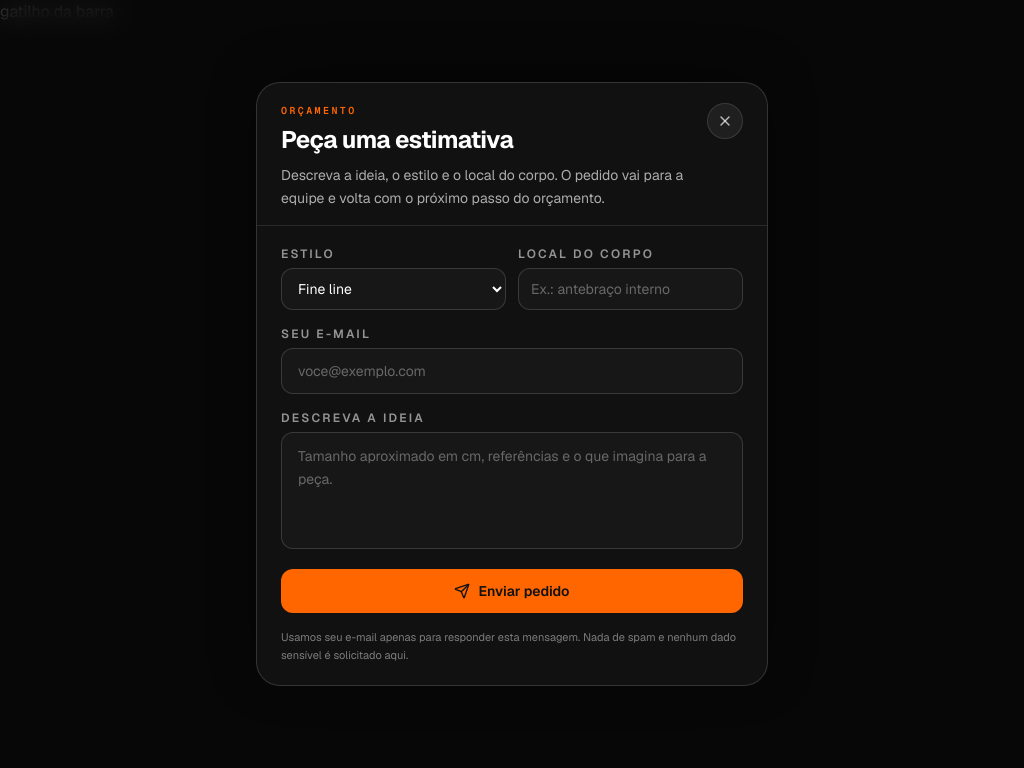
Test: TopBarActionSheet › pedido de orçamento usa o formulário de budget
(page scrolled)
In the field labelled "Seu e-mail": (512, 371) [281,348,743,394], type "cliente@mk.com"
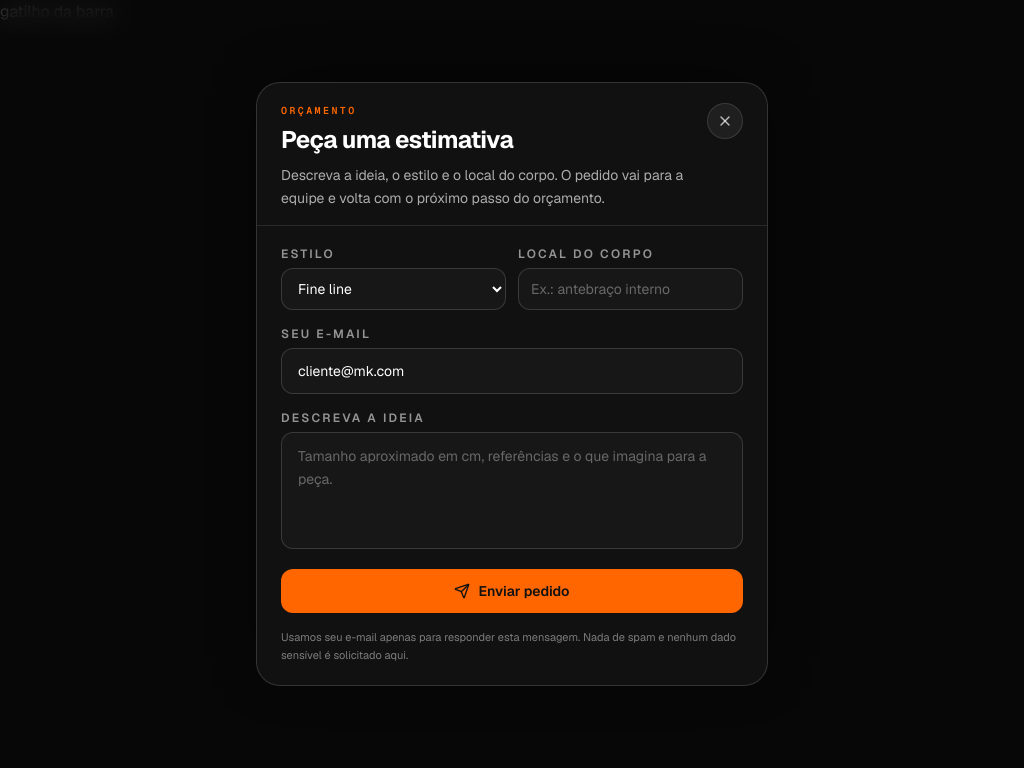
Replace the text in the text box labelled "Descreva a ideia" with "Peça de 15 cm no antebraço, traço fino.": (512, 491) [281,432,743,549]
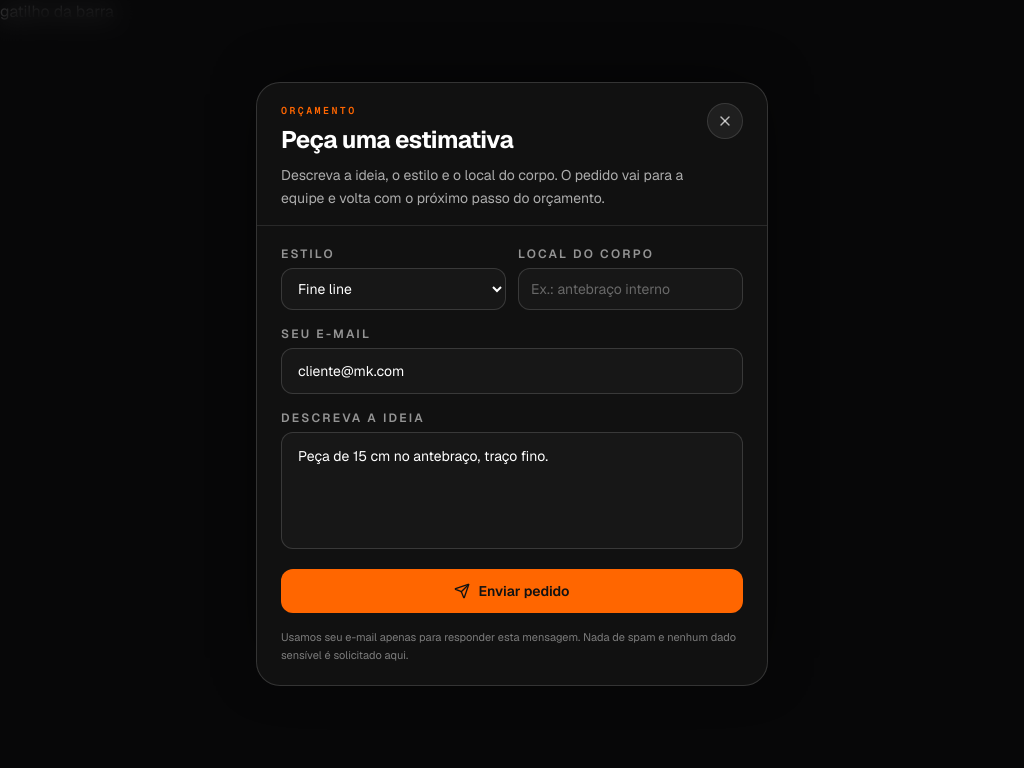
Click the button "Enviar pedido": (512, 591) [281,569,743,613]
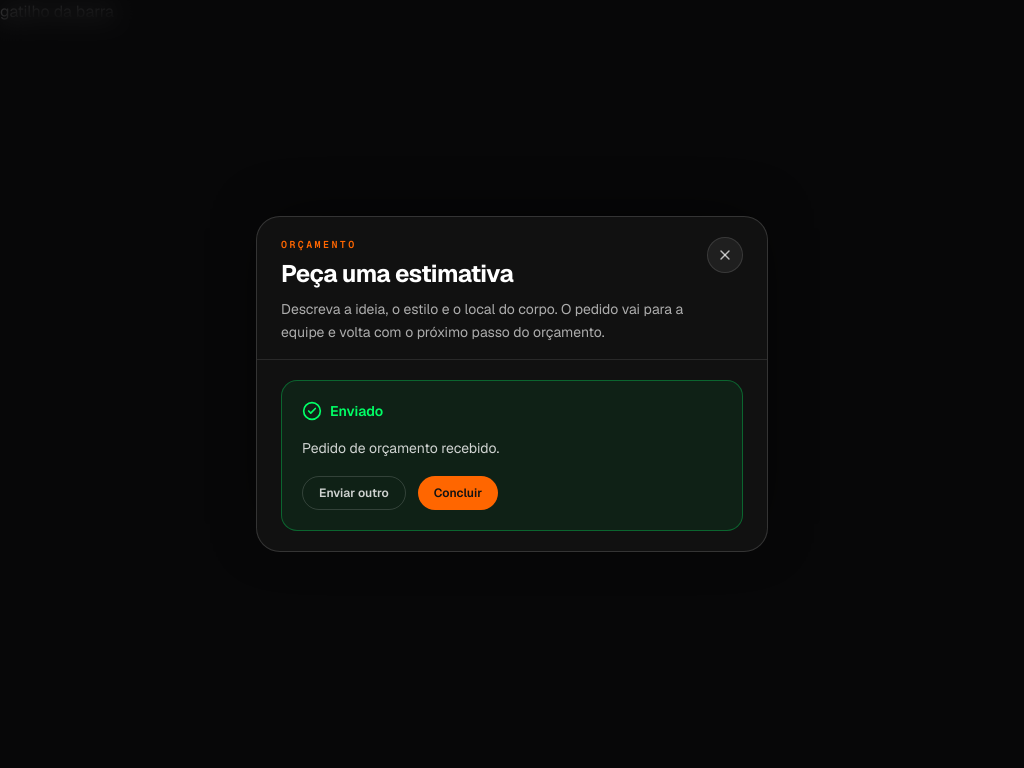
Check: the text "Enviado" is shown, box [302,401,383,421]
